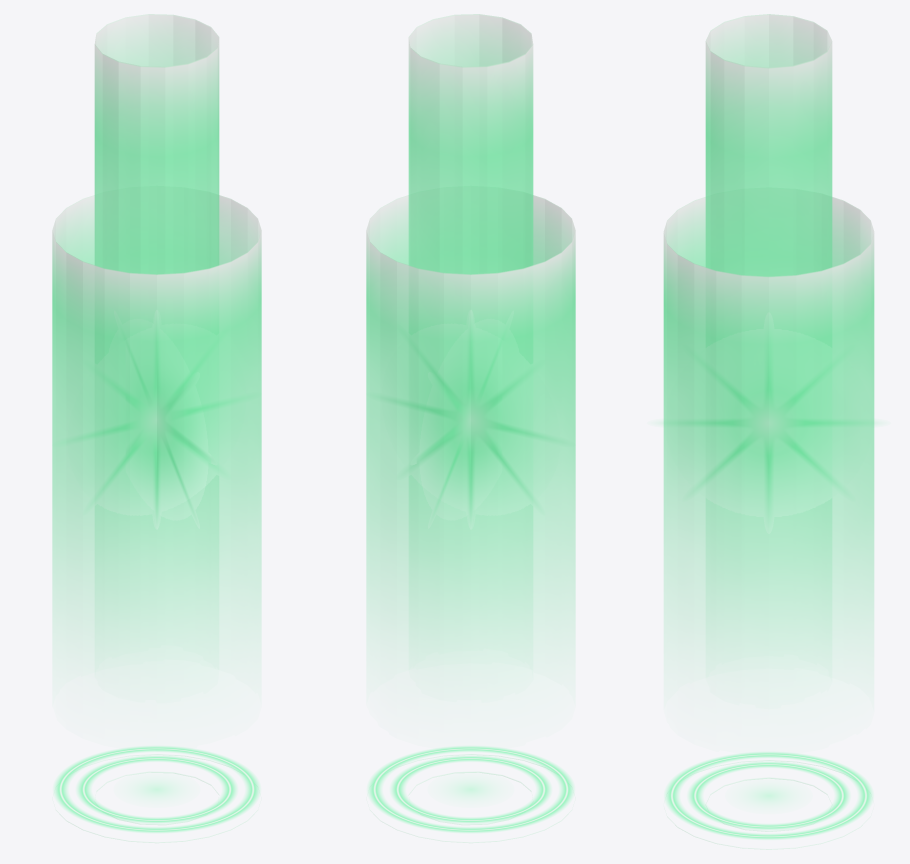
Rendered from fx_up_wisp.glb.
3 views of the same model, side by side, from view 1: azimuth 30°, elevation 25°; view 2: azimuth 150°, elevation 25°; view 3: azimuth 270°, elevation 25° (orthographic).
Parts seen in each view (by area): view 1: fx_up_pillar, fx_up_star, fx_up_ring; view 2: fx_up_pillar, fx_up_star, fx_up_ring; view 3: fx_up_pillar, fx_up_star, fx_up_ring.
Boxes of the visible parts, x1,y1,x2,y2 form: fx_up_pillar: [52, 14, 261, 842]; fx_up_star: [64, 347, 239, 517]; fx_up_ring: [54, 746, 259, 832]; fx_up_pillar: [366, 14, 575, 842]; fx_up_star: [387, 342, 563, 516]; fx_up_ring: [368, 746, 573, 832]; fx_up_pillar: [663, 14, 874, 849]; fx_up_star: [661, 352, 876, 510]; fx_up_ring: [665, 752, 872, 839].
Size of the model in its own units: 1.2 by 4 by 1.2.
3 materials, 3 textured.
